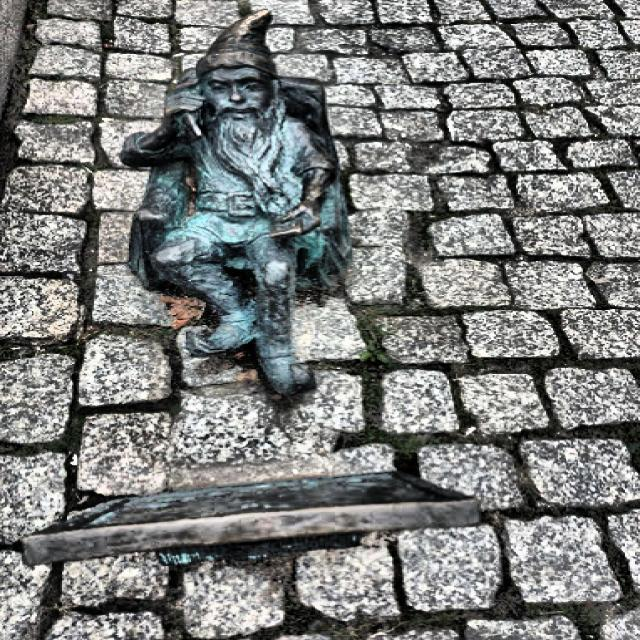Dialogomir: (121, 11, 354, 398), (18, 472, 481, 571)
